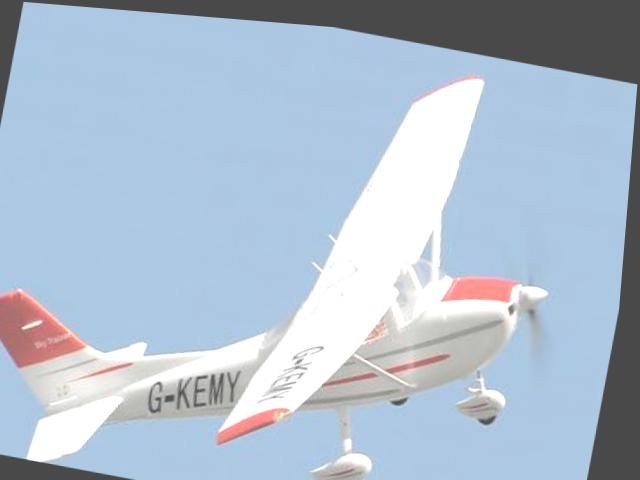uav: (0, 0, 590, 480)
